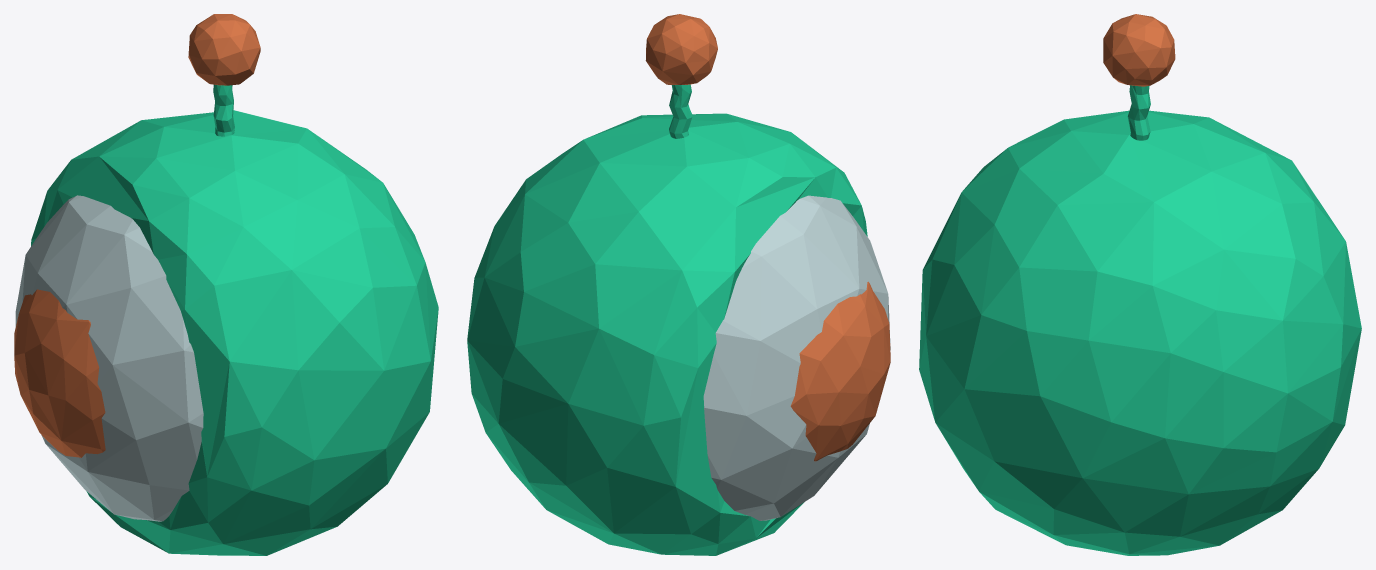
The model's file is Player.fbx.
3 renders of one model, left to right at view 1: azimuth 30°, elevation 25°; view 2: azimuth 150°, elevation 25°; view 3: azimuth 270°, elevation 25°, orthographic.
Visible parts, largest first — view 1: Cube.001, Cube.002, Cube.003, Cube.004, Cylinder; view 2: Cube.001, Cube.002, Cube.003, Cube.004, Cylinder; view 3: Cube.001, Cube.004, Cylinder.
Part boxes in pixels (<box>): Cube.001: <box>31,110,438,555</box>; Cube.002: <box>15,195,203,521</box>; Cube.003: <box>14,289,105,457</box>; Cube.004: <box>188,14,260,85</box>; Cylinder: <box>213,84,234,136</box>; Cube.001: <box>467,113,867,555</box>; Cube.002: <box>703,195,890,520</box>; Cube.003: <box>790,281,890,461</box>; Cube.004: <box>645,14,717,84</box>; Cylinder: <box>669,84,692,138</box>; Cube.001: <box>919,110,1361,555</box>; Cube.004: <box>1103,14,1175,86</box>; Cylinder: <box>1127,85,1150,140</box>.
Bounding box in the file's own units: 165 × 216 × 168.
